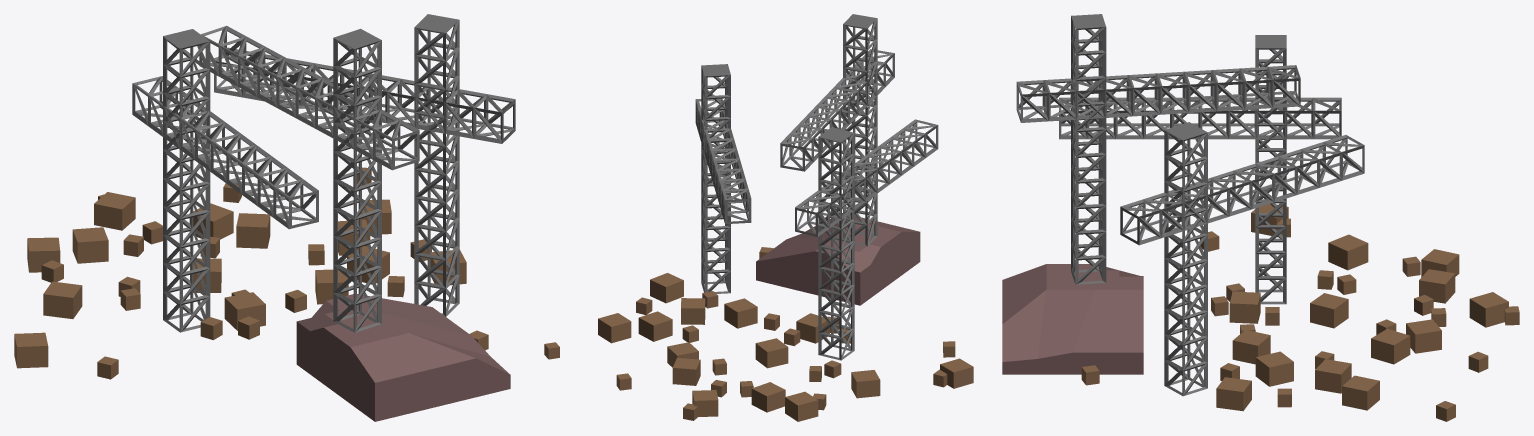
The model's file is Contruction Site.fbx.
The picture shows the model from 3 angles, left to right: view 1: azimuth 30°, elevation 25°; view 2: azimuth 150°, elevation 25°; view 3: azimuth 270°, elevation 25°; orthographic projection. The views are drawn at different scales.
Visible parts, largest first — view 1: Crane 3, Box, Crane 1, Platform, Crane 2; view 2: Box, Crane 1, Crane 3, Platform, Crane 2; view 3: Box, Crane 2, Crane 3, Platform, Crane 1.
Boxes of the visible parts, left/top/right/bottom form: Crane 3: left=199, top=25, right=419, bottom=332; Box: left=14, top=167, right=488, bottom=379; Crane 1: left=132, top=29, right=318, bottom=332; Platform: left=296, top=294, right=510, bottom=421; Crane 2: left=214, top=14, right=515, bottom=316; Box: left=544, top=247, right=973, bottom=421; Crane 1: left=795, top=119, right=938, bottom=360; Crane 3: left=780, top=14, right=894, bottom=246; Platform: left=756, top=213, right=920, bottom=305; Crane 2: left=695, top=64, right=751, bottom=293; Box: left=1081, top=204, right=1519, bottom=421; Crane 2: left=1120, top=122, right=1364, bottom=396; Crane 3: left=1016, top=14, right=1300, bottom=284; Platform: left=1002, top=264, right=1143, bottom=374; Crane 1: left=1059, top=35, right=1341, bottom=304.
Bounding box in the file's own units: 3366 × 2400 × 3663.
